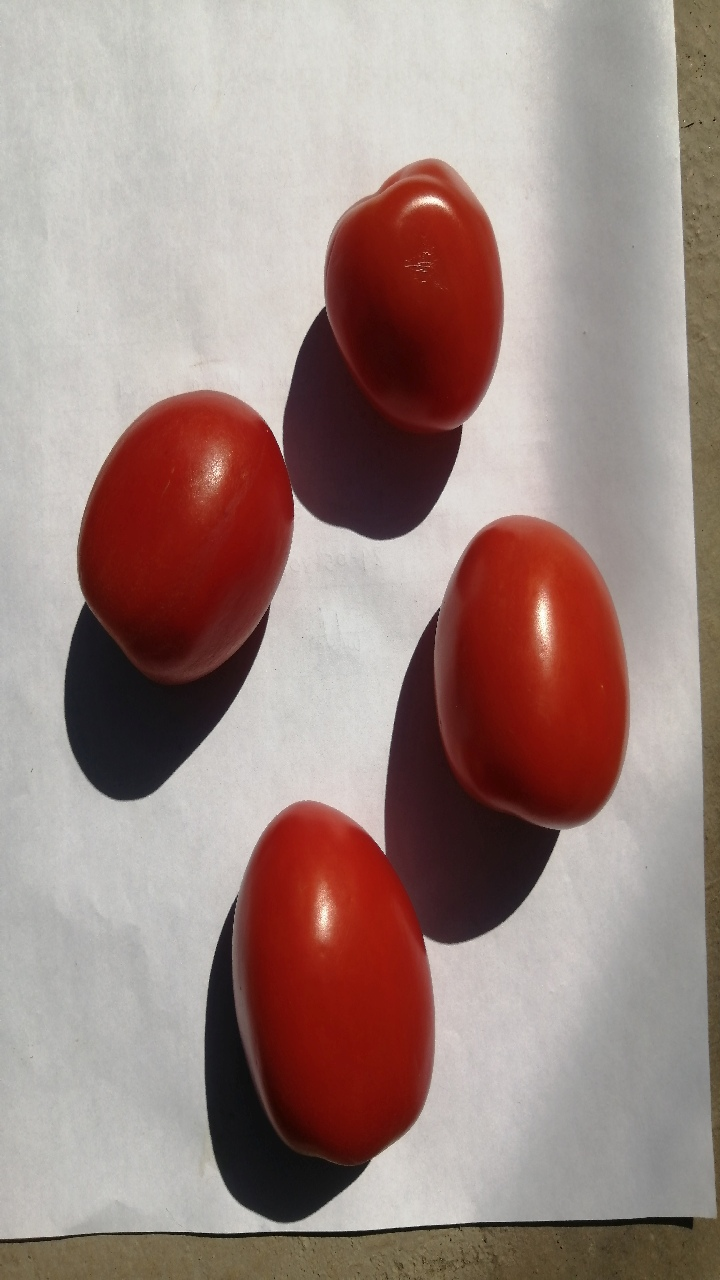tomateRojo: (203, 791, 451, 1180), (49, 366, 304, 709), (283, 132, 537, 448), (421, 497, 641, 843)
